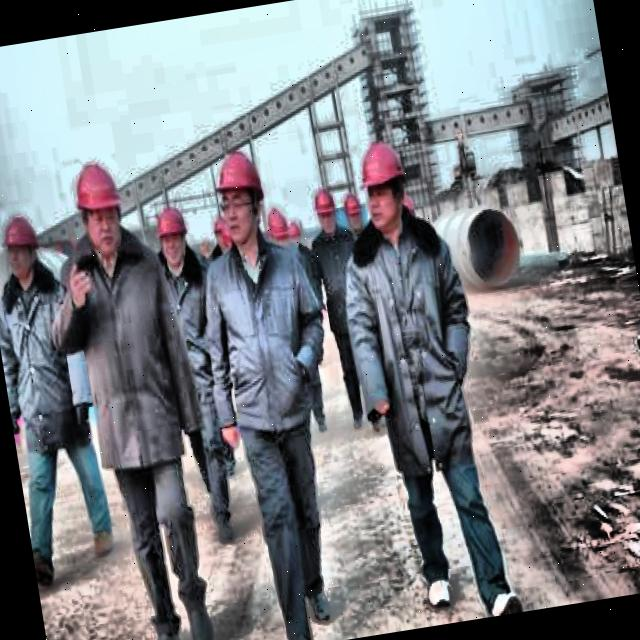helmet: (68, 157, 130, 262), (352, 133, 416, 234), (210, 144, 272, 247), (0, 209, 45, 288), (150, 199, 195, 271), (308, 181, 343, 241), (262, 202, 296, 262), (341, 187, 365, 232)
